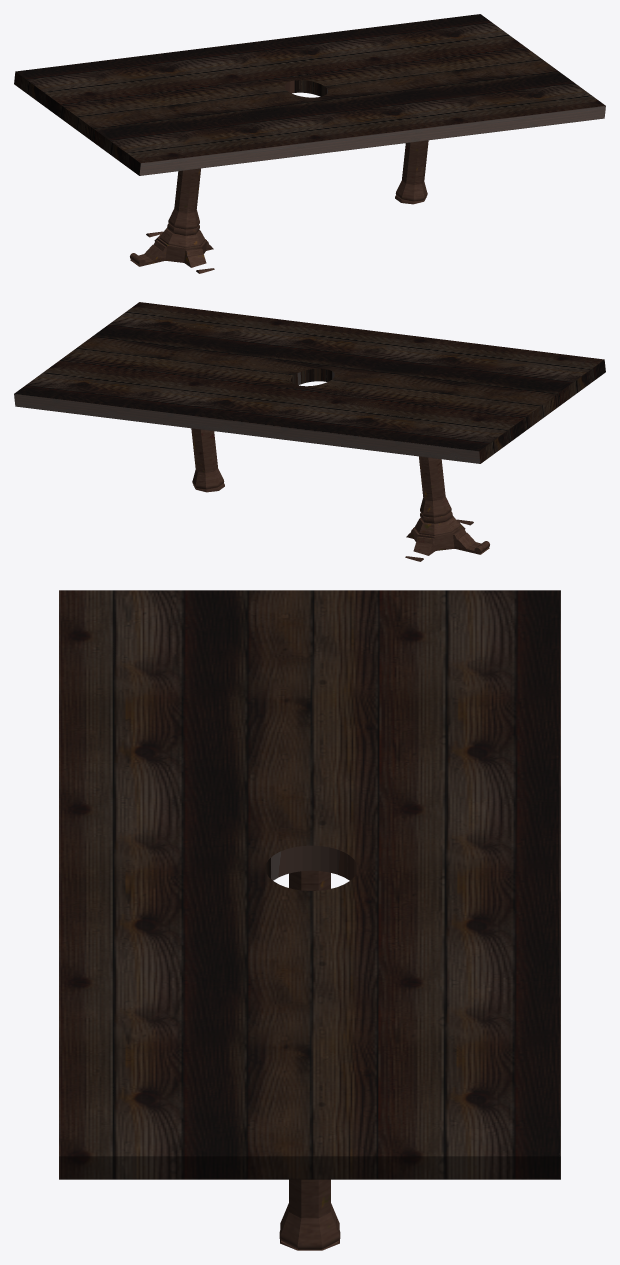
File: tek delik masa.fbx
3 views of the same model, one above another, from view 1: azimuth 30°, elevation 25°; view 2: azimuth 150°, elevation 25°; view 3: azimuth 270°, elevation 25° (orthographic). The views are drawn at different scales.
Visible parts, largest first — view 1: Medieval Table; view 2: Medieval Table; view 3: Medieval Table.
Boxes of the visible parts, <box> form: Medieval Table: <box>14,14,605,273</box>; Medieval Table: <box>14,302,605,561</box>; Medieval Table: <box>59,590,560,1250</box>.
Bounding box in the file's own units: 1.95 × 0.6447 × 0.9081.
